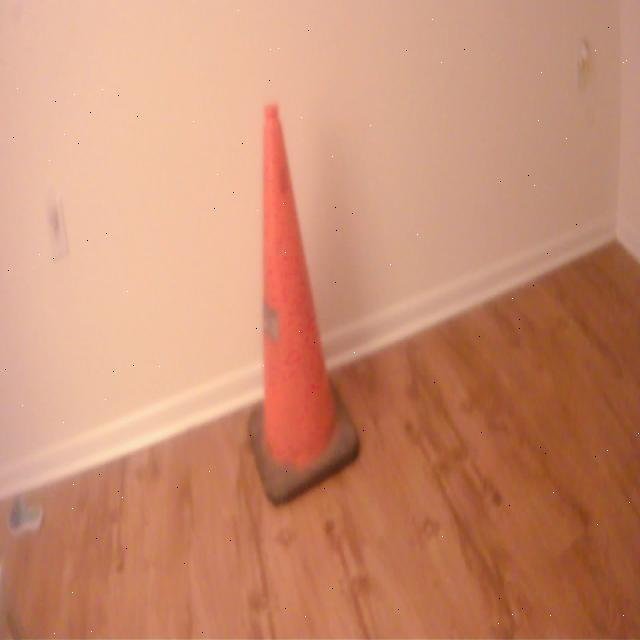traffic cone: (247, 98, 365, 510)
